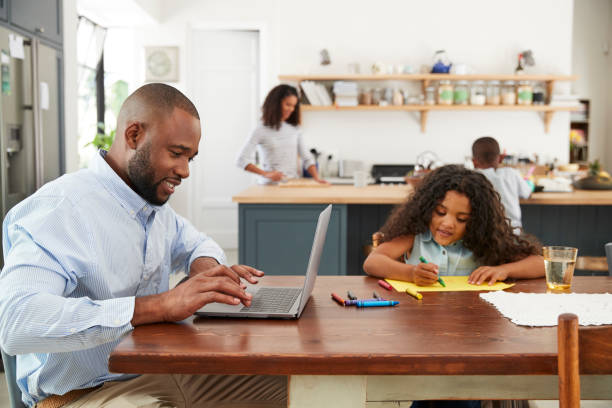without mask: (106, 64, 207, 207), (429, 184, 479, 244), (269, 87, 307, 121), (469, 138, 507, 172)
